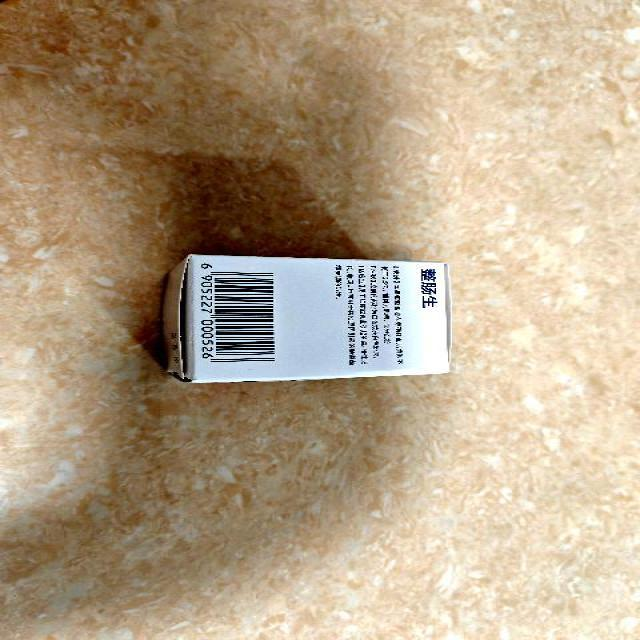box: (160, 252, 452, 384)
